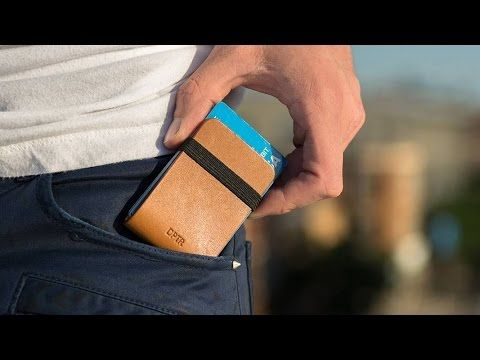monedero: (121, 100, 291, 260)
